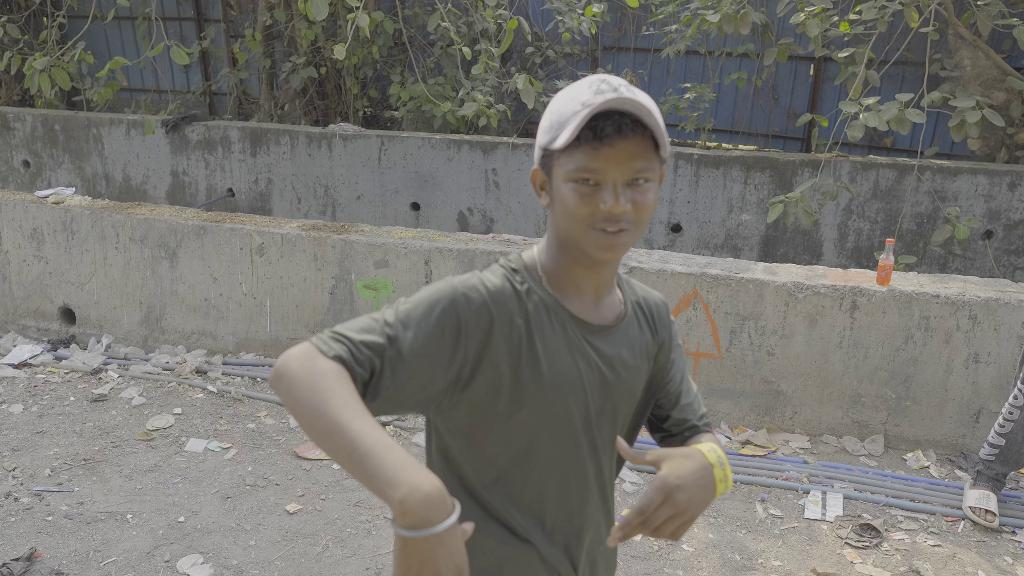garbage: (149, 336, 230, 381), (59, 342, 110, 378), (840, 428, 893, 461), (3, 332, 44, 371), (802, 488, 845, 523), (185, 433, 236, 454), (144, 410, 177, 431), (116, 385, 147, 406), (902, 450, 933, 470), (35, 184, 77, 197)
